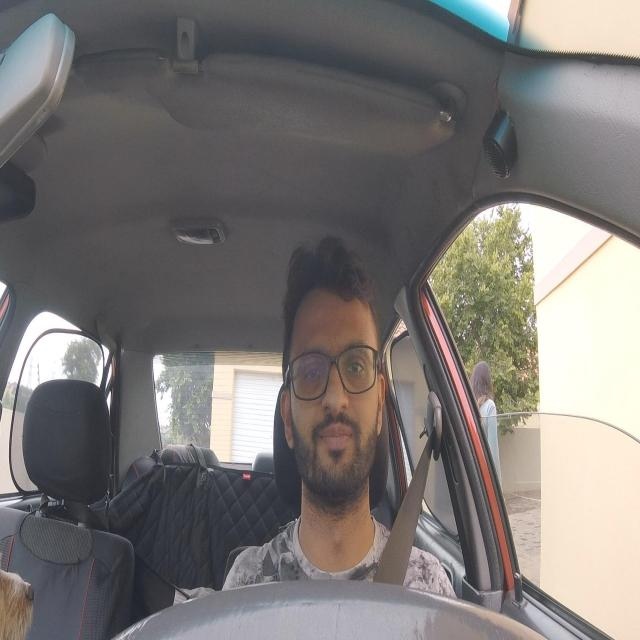open: (338, 338, 371, 392), (298, 336, 328, 394)
